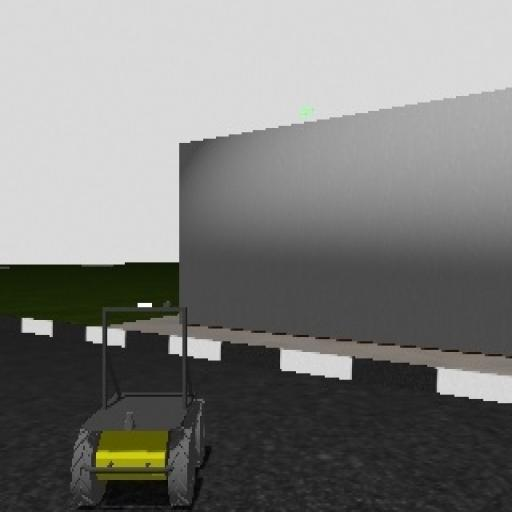huskya200: (52, 294, 214, 512)
